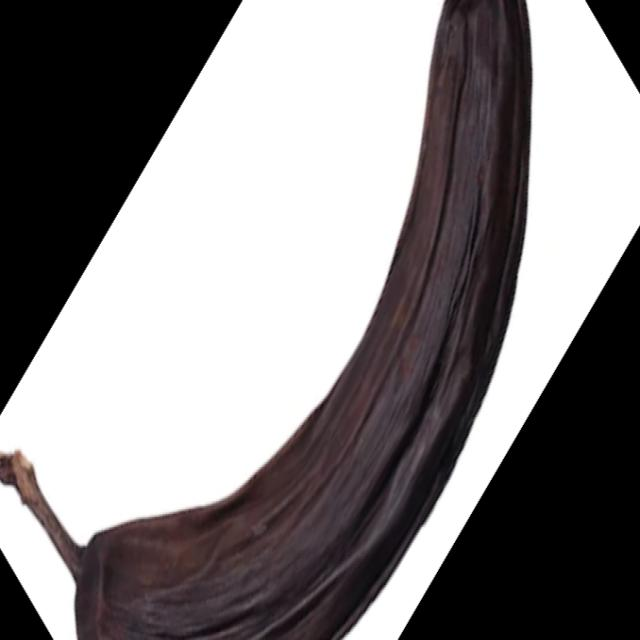Rotten: (0, 0, 533, 640)
